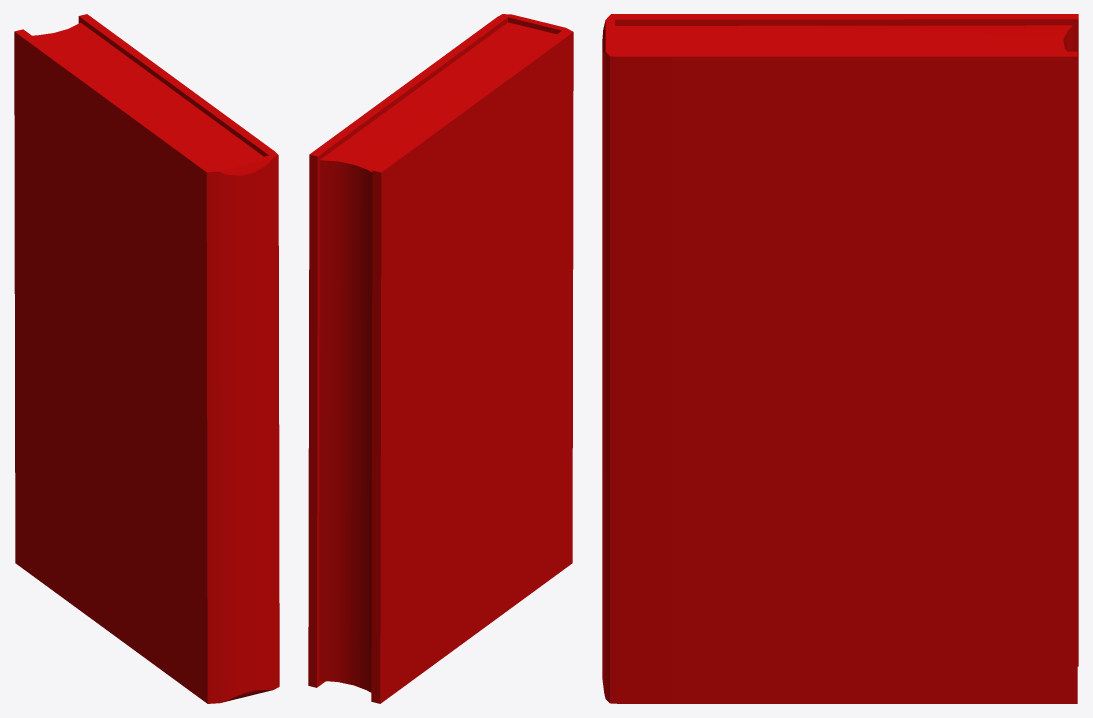
File: Attic_Book_03_LP.glb
3 views of the same model, side by side, from view 1: azimuth 30°, elevation 25°; view 2: azimuth 150°, elevation 25°; view 3: azimuth 270°, elevation 25° (orthographic). The views are drawn at different scales.
Visible parts, largest first — view 1: Attic_Book_03_LP; view 2: Attic_Book_03_LP; view 3: Attic_Book_03_LP.
Boxes of the visible parts, x1,y1,x2,y2 form: Attic_Book_03_LP: [14, 14, 279, 703]; Attic_Book_03_LP: [308, 14, 573, 703]; Attic_Book_03_LP: [602, 14, 1078, 703].
Size of the model in its own units: 0.042 by 0.2911 by 0.1944.
